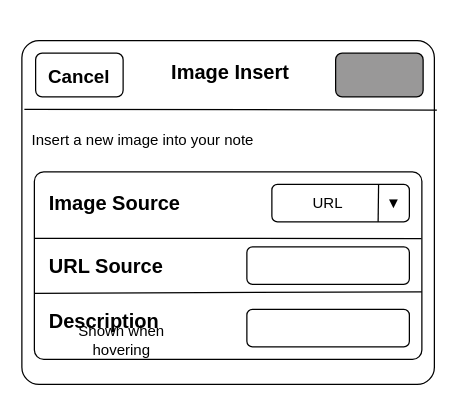
Image size: 460x406. Some labels were removed from this diagram. Each missing label, with the box of its shape:
http://example.com/...: (246, 246, 409, 284)
Insert: (334, 52, 423, 97)
